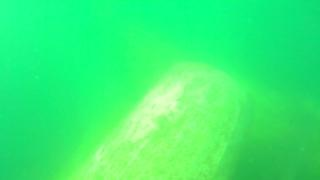pipe: (61, 60, 255, 180)
